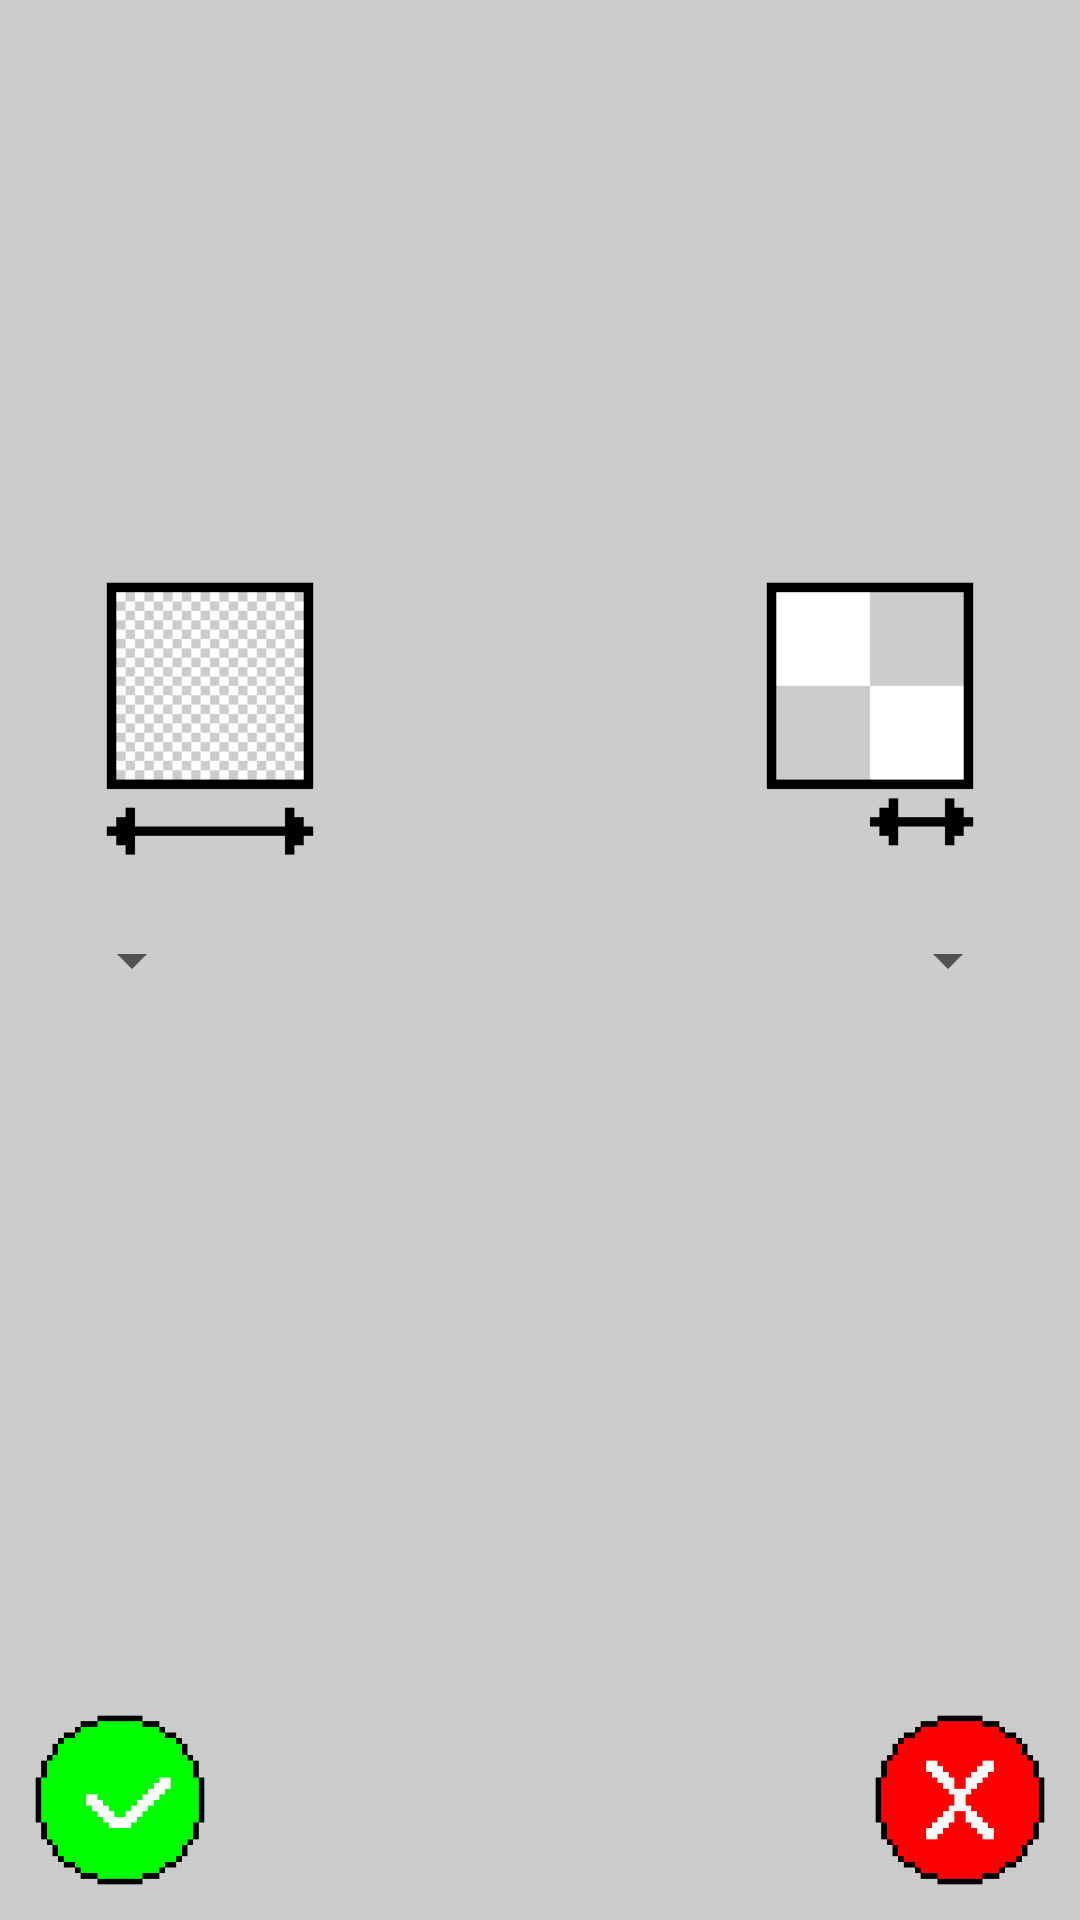

Named icons in this screenshot (1080×1920) and their centers, (x,y):
close: (960,1800)
confirm: (120,1800)
dimension: (210,718)
